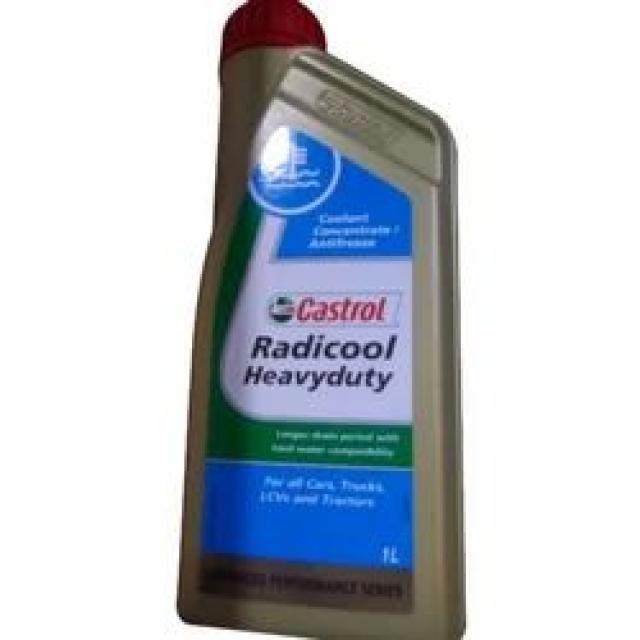coolant: (176, 0, 474, 640)
